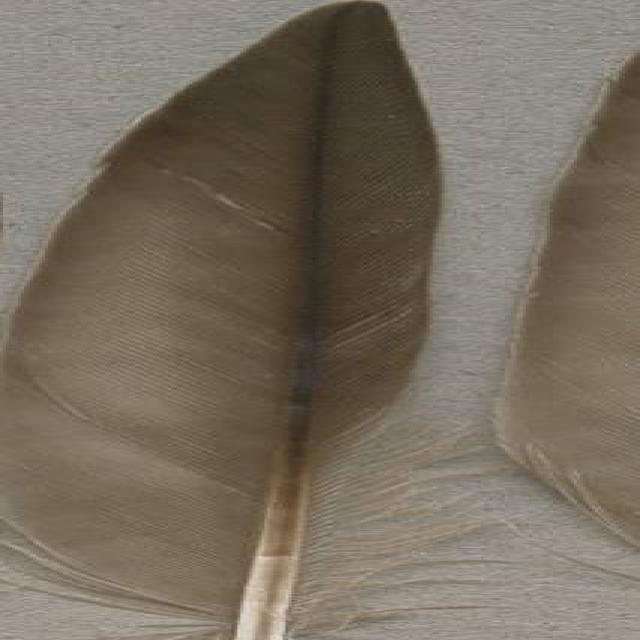feather: (0, 0, 454, 640)
